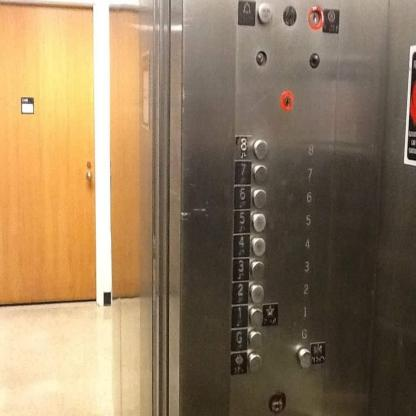1: (230, 304, 249, 328)
2: (231, 281, 249, 303)
3: (231, 255, 250, 281)
4: (233, 235, 250, 256)
5: (233, 209, 250, 234)
6: (232, 185, 250, 208)
7: (233, 161, 252, 184)
8: (234, 134, 253, 160)
G: (230, 329, 247, 352)
alarm: (236, 0, 256, 26)
close: (310, 341, 326, 364)
empty: (296, 346, 312, 369), (252, 138, 268, 160), (249, 282, 265, 304), (251, 235, 266, 258), (252, 164, 267, 186), (248, 328, 262, 351), (251, 212, 266, 233), (252, 188, 266, 210), (250, 260, 265, 280), (248, 352, 262, 373), (249, 305, 262, 327)
keyhole: (280, 2, 298, 29), (306, 4, 324, 30), (278, 88, 295, 113)
open: (229, 350, 248, 375)
s: (262, 301, 279, 326)
stop: (320, 7, 340, 33)
text_blur: (269, 388, 287, 416), (256, 0, 274, 26)
